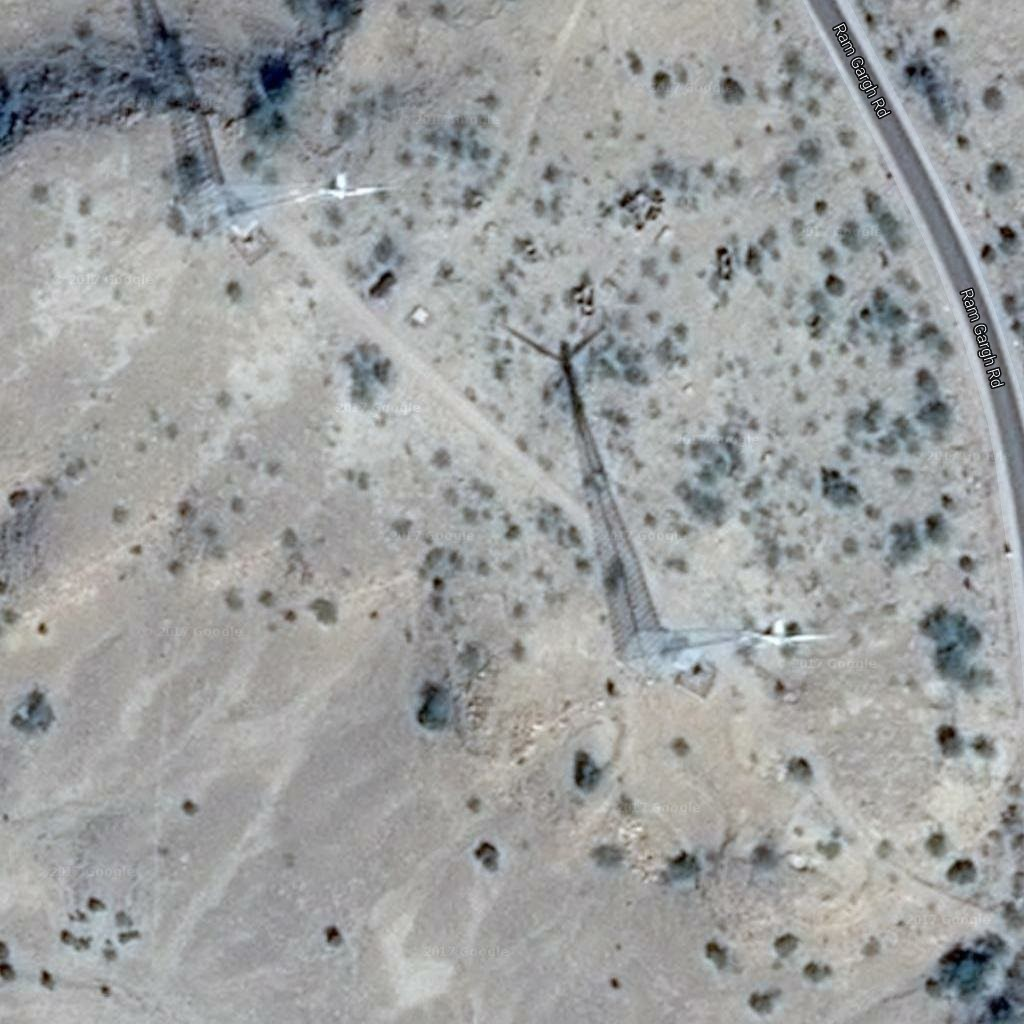Windmill: (504, 324, 669, 678)
